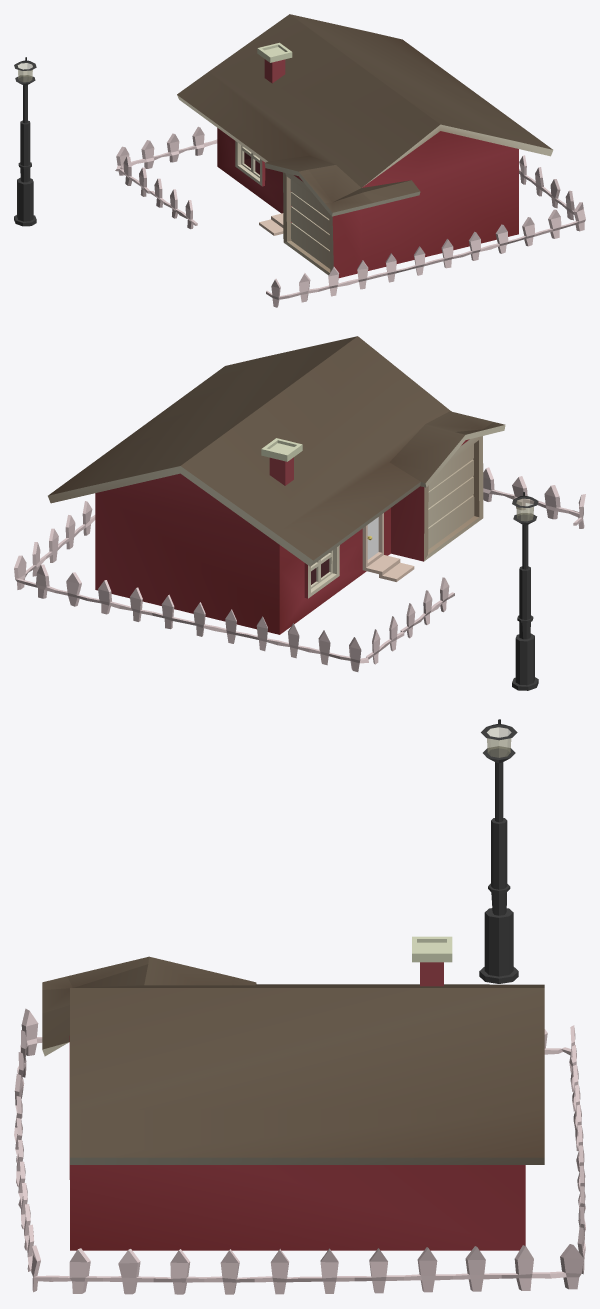
The model's file is redhouse.glb.
3 renders of one model, top to bottom at view 1: azimuth 30°, elevation 25°; view 2: azimuth 150°, elevation 25°; view 3: azimuth 270°, elevation 25°, orthographic. The views are drawn at different scales.
Visible parts, largest first — view 1: Cube.001, Cube.004, Circle, Cube.002; view 2: Cube.001, Cube.004, Circle, Cube.003, Cube.002; view 3: Cube.001, Cube.004, Circle, Cube.002.
Boxes of the visible parts, x1,y1,x2,y2 form: Cube.001: [177, 14, 553, 278]; Cube.004: [115, 126, 585, 307]; Circle: [14, 57, 36, 226]; Cube.002: [257, 42, 292, 83]; Cube.001: [48, 336, 505, 634]; Cube.004: [14, 467, 585, 671]; Circle: [512, 492, 538, 690]; Cube.003: [362, 513, 414, 581]; Cube.002: [261, 438, 302, 485]; Cube.001: [42, 956, 544, 1250]; Cube.004: [14, 1008, 585, 1294]; Circle: [479, 719, 518, 983]; Cube.002: [412, 936, 452, 986].
Bounding box in the file's own units: 22.13 × 8.16 × 16.4.
